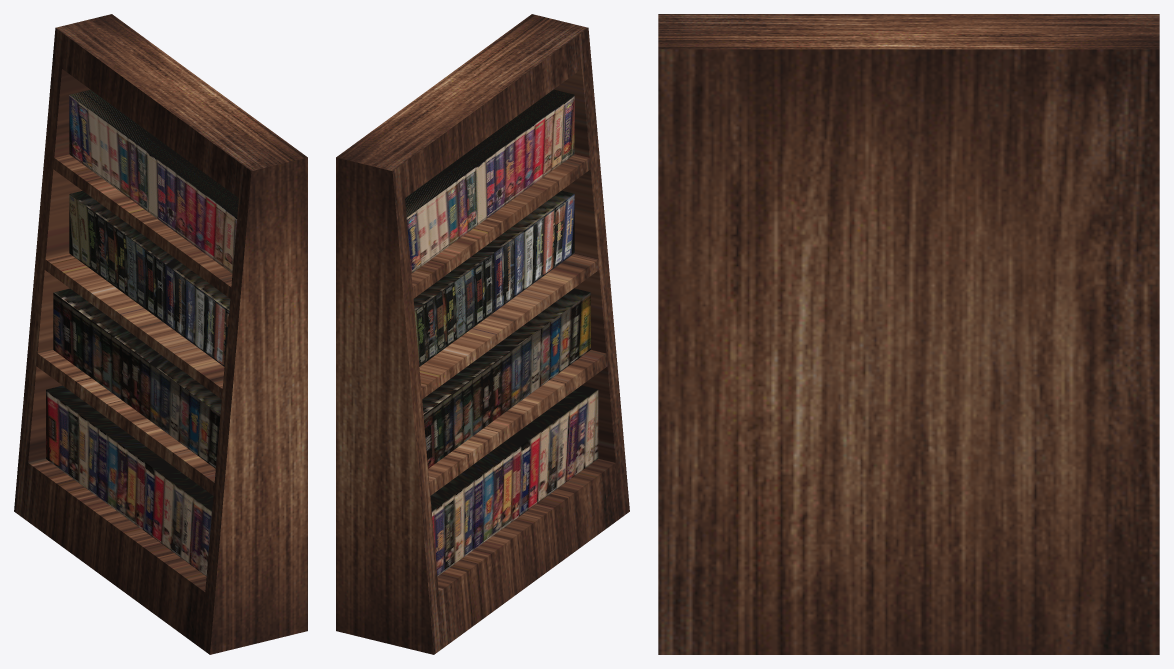
File: Estanteria.fbx
The picture shows the model from 3 angles, left to right: view 1: azimuth 30°, elevation 25°; view 2: azimuth 150°, elevation 25°; view 3: azimuth 270°, elevation 25°; orthographic projection. The views are drawn at different scales.
Parts seen in each view (by area): view 1: Cube, relleno.003, relleno.001, relleno.002, relleno; view 2: Cube, relleno.003, relleno.001, relleno.002, relleno; view 3: Cube.
Part boxes in pixels (box(x1,y1,x2,y2)): Cube: box(14, 14, 307, 654); relleno.003: box(46, 385, 213, 576); relleno.001: box(69, 89, 238, 273); relleno.002: box(53, 288, 221, 468); relleno: box(69, 191, 230, 366); Cube: box(336, 14, 629, 654); relleno.003: box(430, 385, 598, 576); relleno.001: box(405, 89, 574, 273); relleno.002: box(422, 288, 590, 468); relleno: box(413, 190, 574, 366); Cube: box(658, 14, 1159, 654).
Size of the model in its own units: 173 by 800 by 600.
3 materials, 3 textured.
